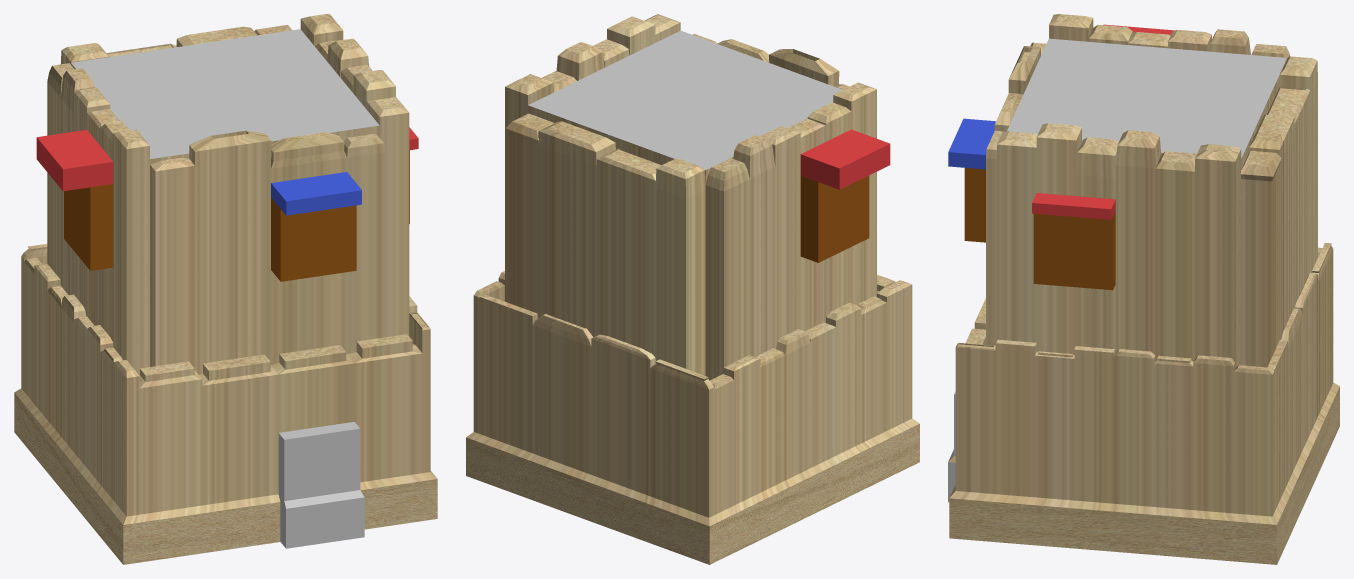
Rendered from temple7.fbx.
The picture shows the model from 3 angles, left to right: view 1: azimuth 30°, elevation 25°; view 2: azimuth 150°, elevation 25°; view 3: azimuth 270°, elevation 25°; orthographic projection. The views are drawn at different scales.
Visible parts, largest first — view 1: Cube.002; view 2: Cube.002; view 3: Cube.002.
Boxes of the visible parts, x1,y1,x2,y2 form: Cube.002: (14, 14, 437, 564); Cube.002: (466, 14, 919, 564); Cube.002: (948, 14, 1339, 564).
Bounding box in the file's own units: 986 × 1081 × 946.
